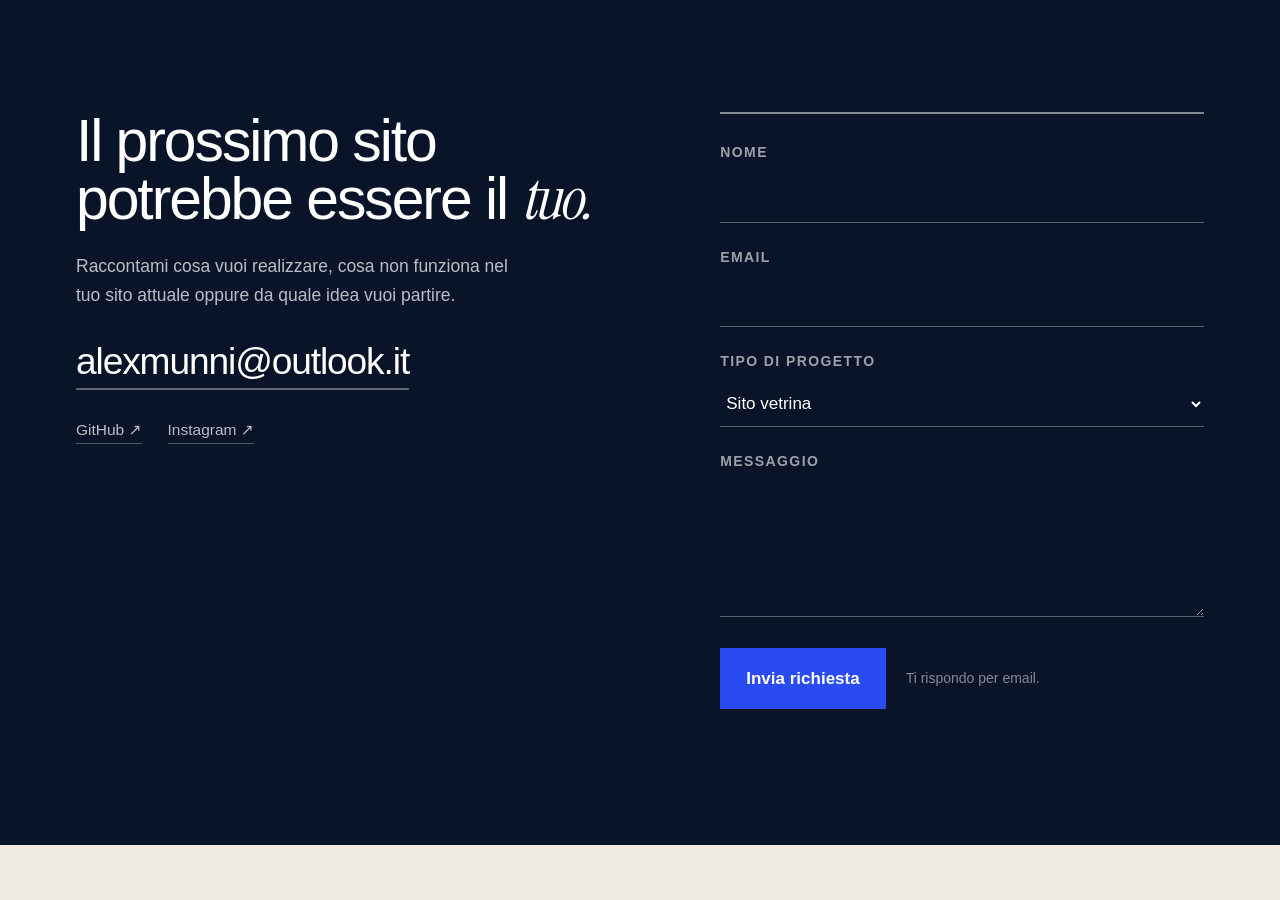
it: Contact › shows an error message when Formspree responds with a non-OK status
Type "Jane Doe" into the field labelled "Nome". click: coordinates (962, 197)
box: [720,172,1204,222]
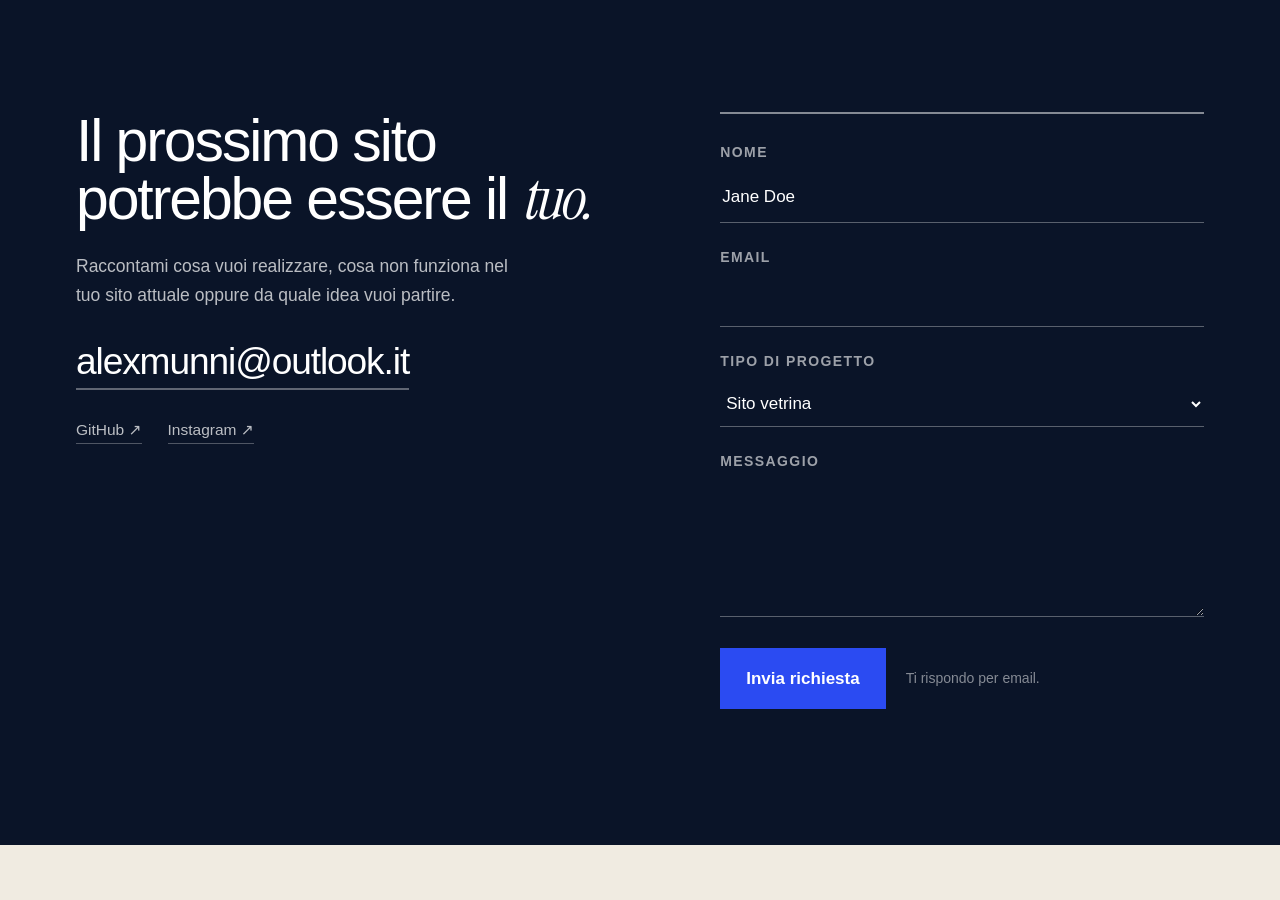
Type "jane@example.com" into the field labelled "Email". click: coordinates (962, 302)
box: [720,276,1204,327]
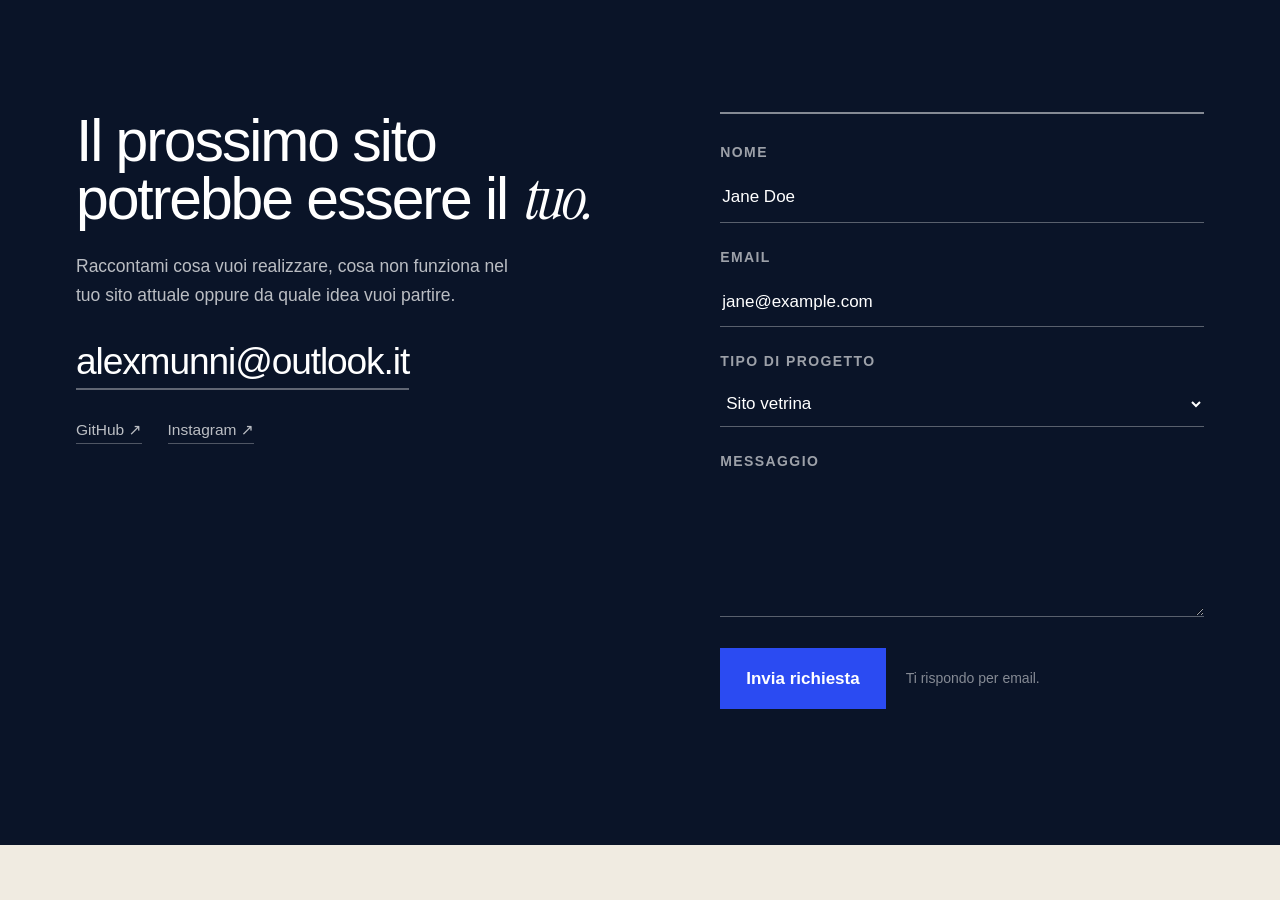
Type "Hello there" into the text box labelled "Messaggio". click: coordinates (962, 549)
box: [720,481,1204,616]
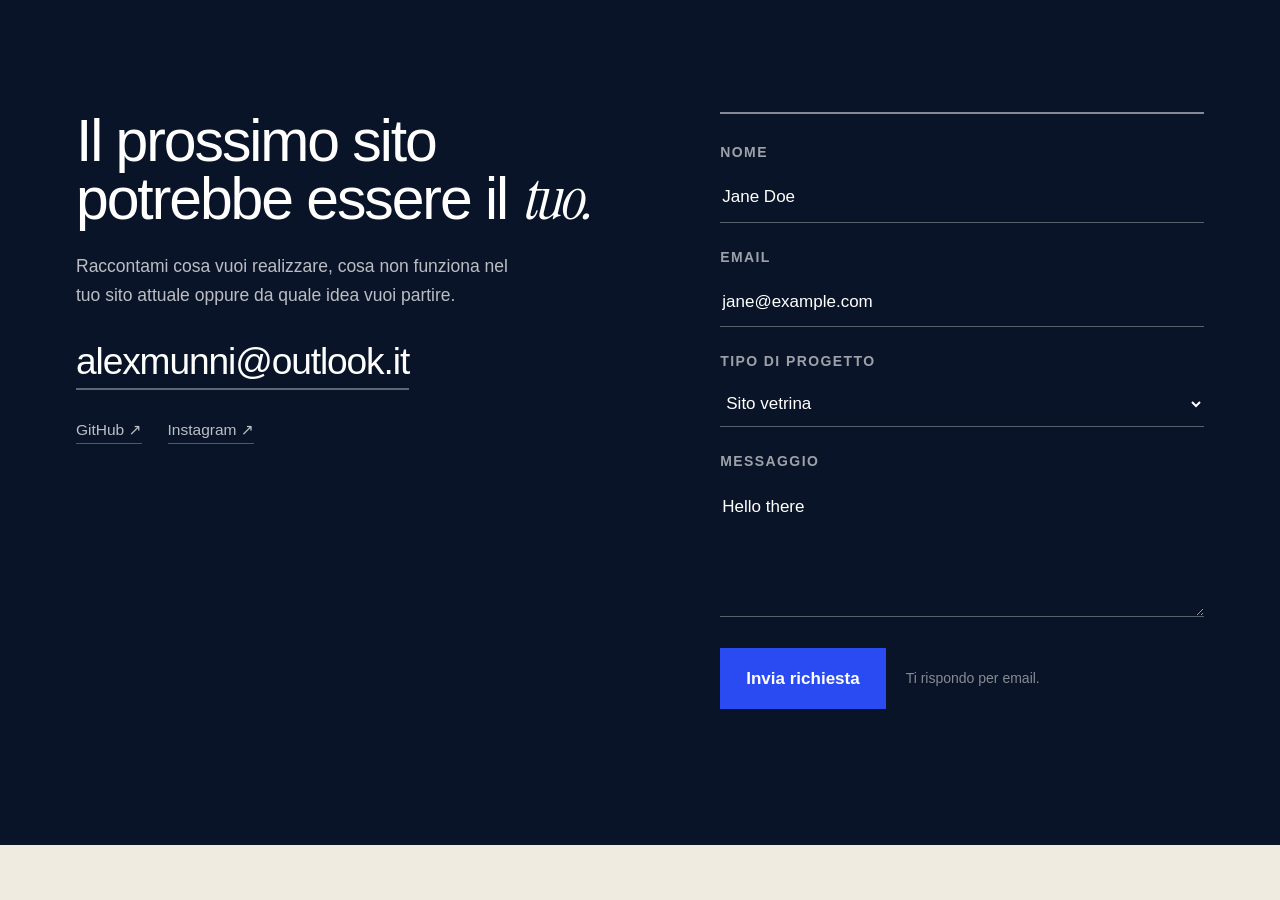
Click the button "Invia richiesta". click: coordinates (803, 678)
box: [720,648,886,709]
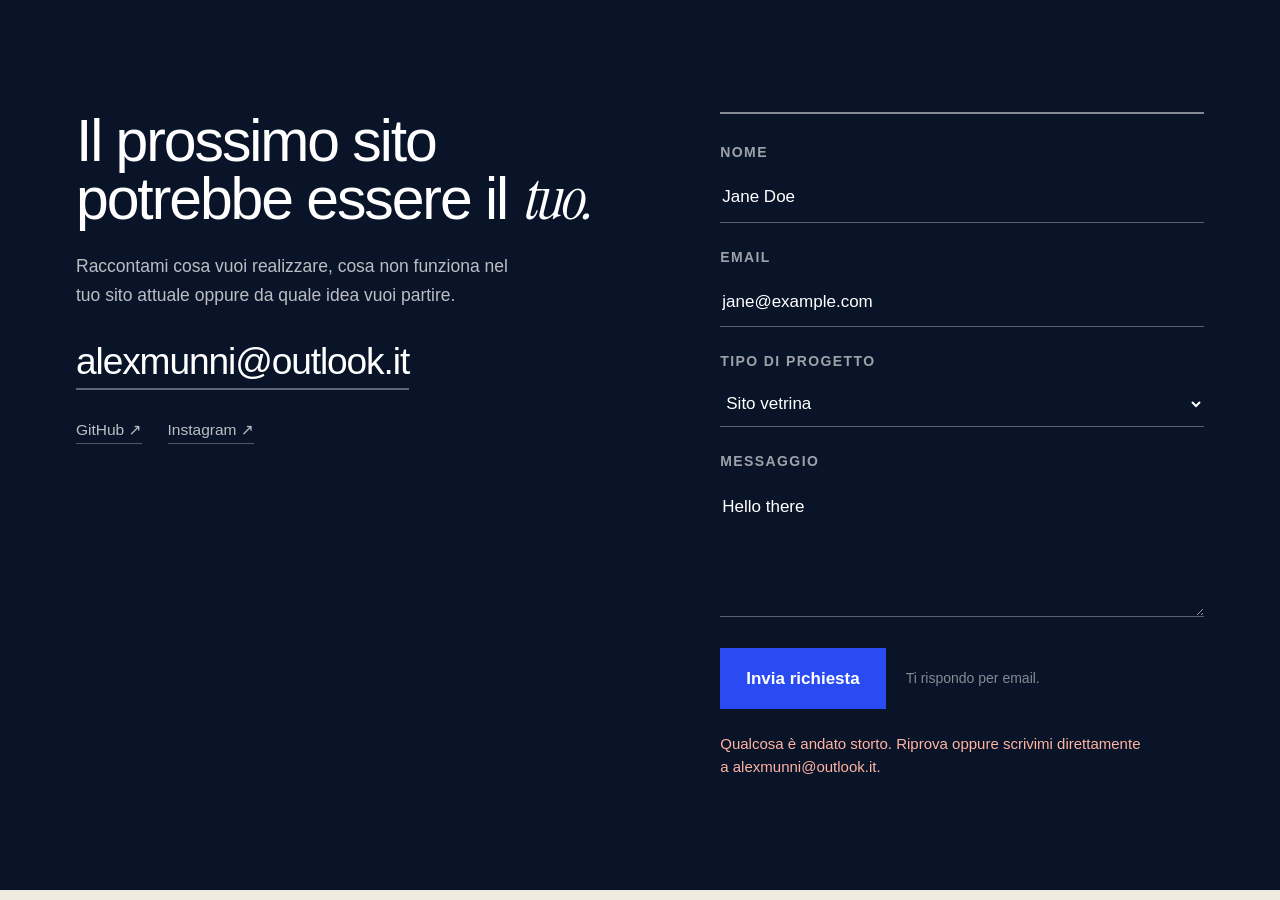
Expected: the text "Qualcosa è andato storto" is shown, [720,735,1140,774]
